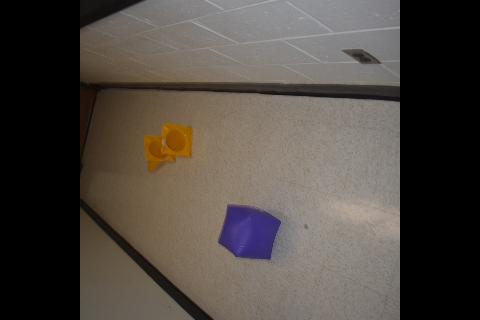cone: (144, 134, 174, 172), (161, 123, 193, 157)
cube: (218, 202, 282, 258)
